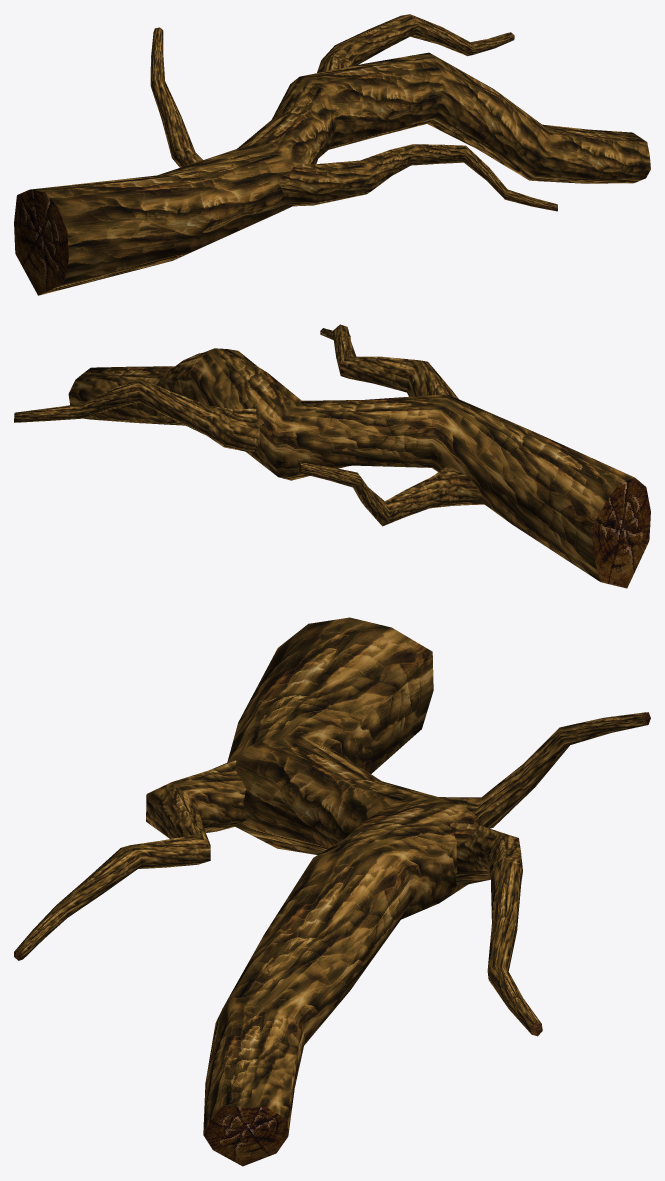
Rendered from LVL_ROAST_MUTTON_FALLEN_TREE.fbx.
3 renders of one model, top to bottom at view 1: azimuth 30°, elevation 25°; view 2: azimuth 150°, elevation 25°; view 3: azimuth 270°, elevation 25°, orthographic. The views are drawn at different scales.
Visible parts, largest first — view 1: LVL_ROAST_MUTTON_FALLEN_TREE; view 2: LVL_ROAST_MUTTON_FALLEN_TREE; view 3: LVL_ROAST_MUTTON_FALLEN_TREE.
Part boxes in pixels (x1,y1,x2,y2): LVL_ROAST_MUTTON_FALLEN_TREE: (14,14,650,295); LVL_ROAST_MUTTON_FALLEN_TREE: (14,324,650,588); LVL_ROAST_MUTTON_FALLEN_TREE: (14,617,650,1166).
Size of the model in its own units: 105579 by 25233 by 69045.
Materials: 2 (2 with a texture image).
